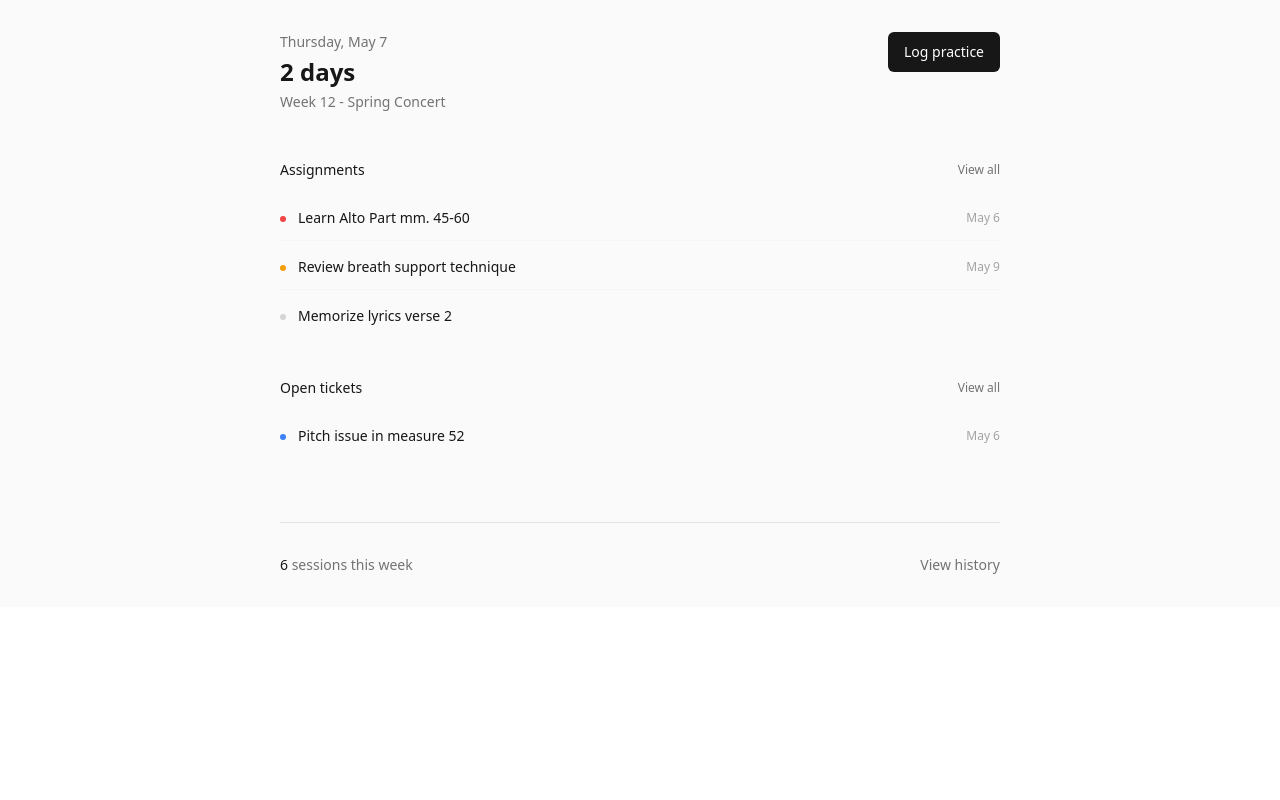
Test: DashboardPage › Log Practice Modal › opens modal when Log Practice is clicked
Click the button "Log practice": coordinates (944, 52) [888,32,1000,72]
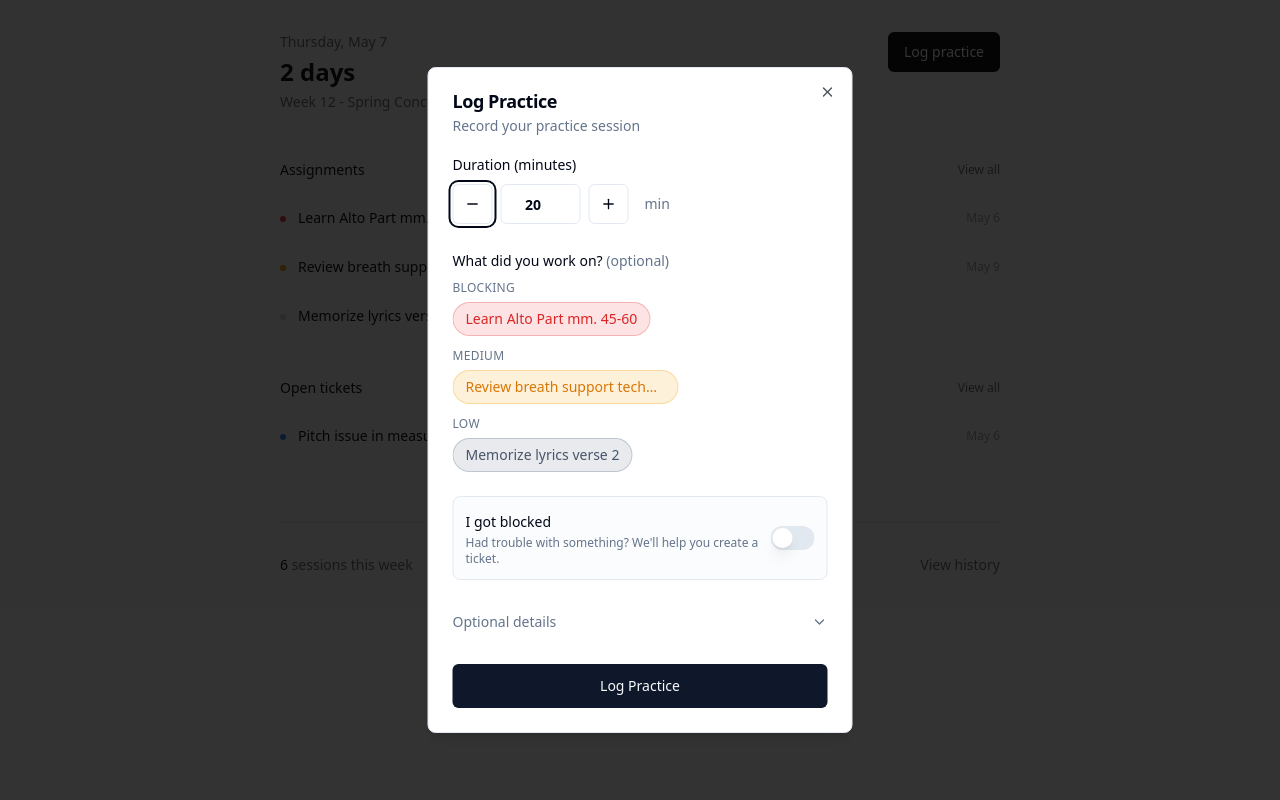
Now the text "Duration (minutes)" is shown, box [452,155,576,174]
